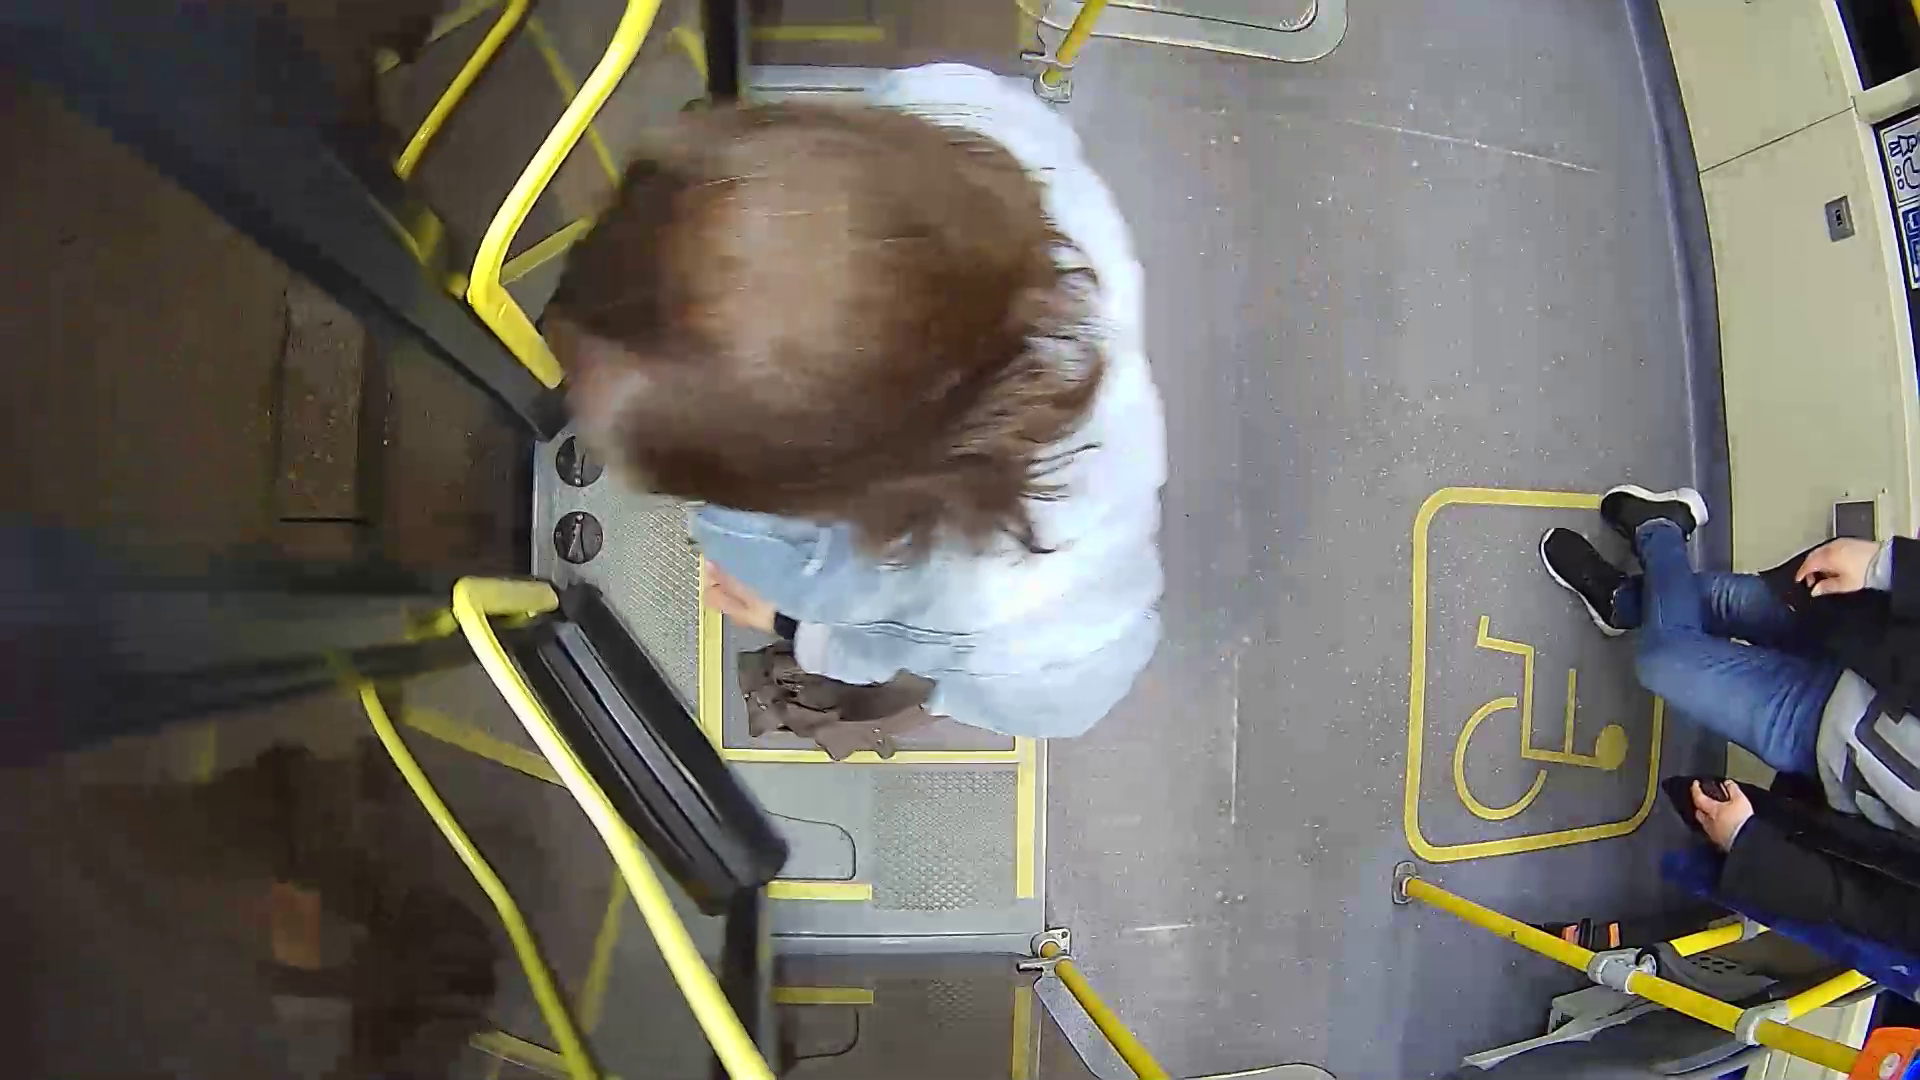person: (489, 91, 1257, 747)
